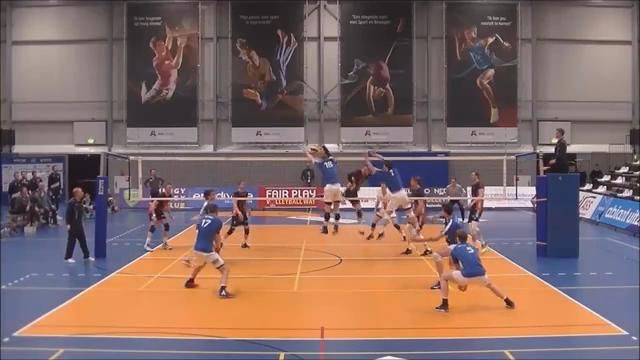Attack: (337, 156, 370, 236)
Block: (361, 146, 423, 245), (301, 143, 341, 236)
Player: (435, 230, 514, 311), (185, 203, 232, 297), (414, 203, 462, 275), (366, 183, 405, 240), (223, 182, 249, 248), (468, 171, 488, 252), (144, 199, 172, 250), (410, 176, 425, 229), (191, 189, 214, 219)
ball: (308, 143, 320, 156)
